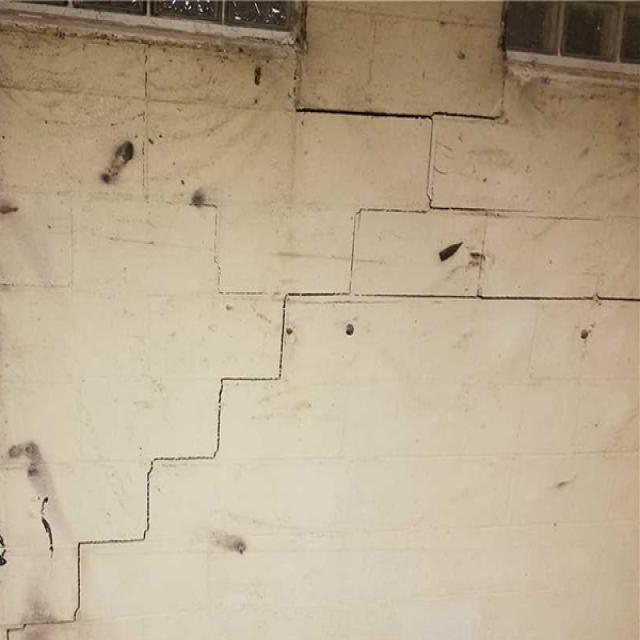Crack: (3, 116, 441, 639), (422, 117, 639, 304)
